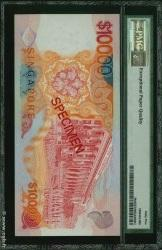10000SingaporeDollar: (15, 15, 119, 236)
